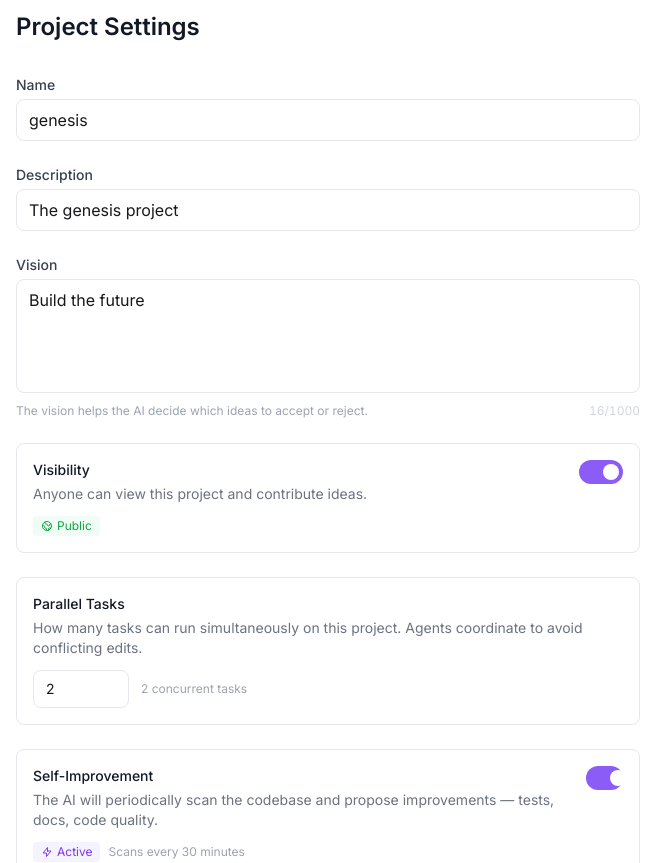
Scenario: ProjectSettingsPage › auto-improve toggle › toggles auto-improve from on to off
The width and height of the screenshot is (657, 863).
Expected: the text "Active" is shown, [33,842,100,862]
Click the button without text in the row of "Self-Improvement" at (604, 778), box [586,766,623,790]
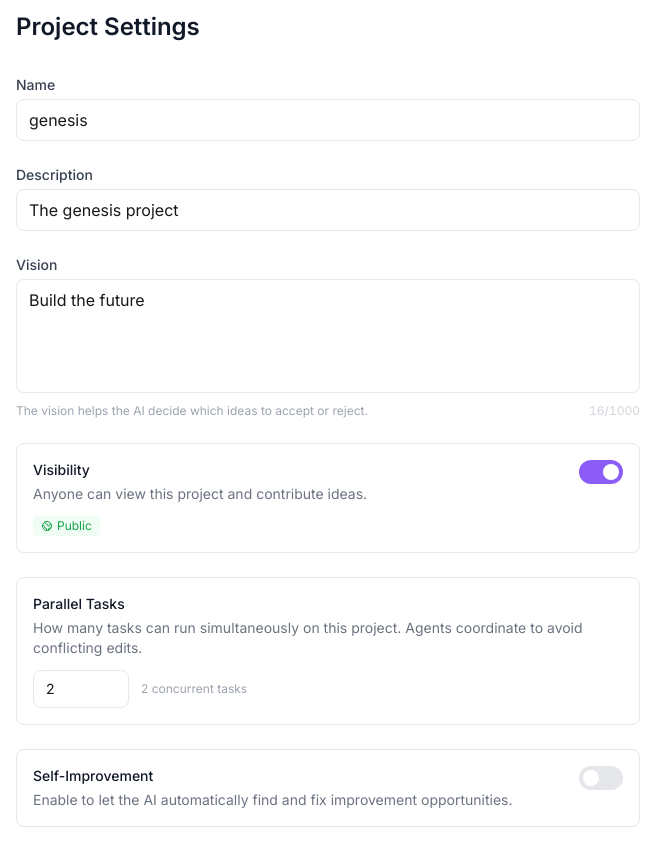
Expected: the text "Active" is gone
